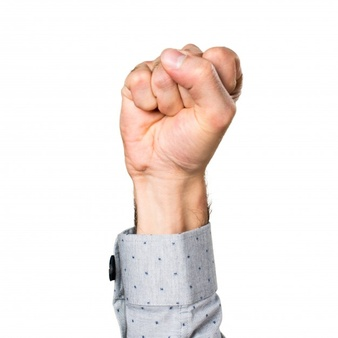fist: (115, 41, 247, 176)
